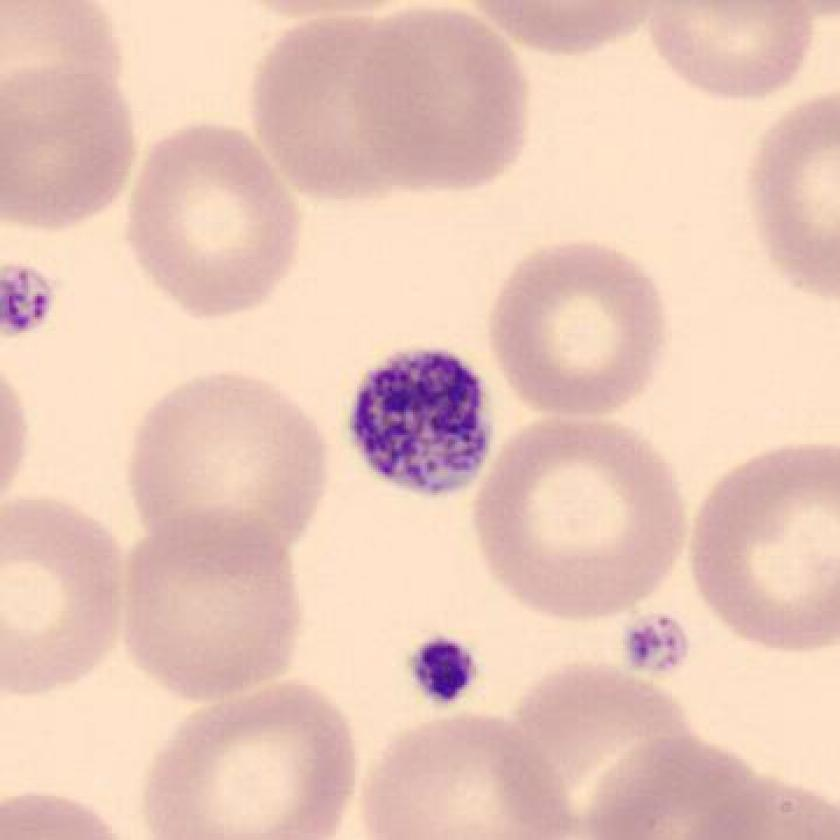platelets: (347, 332, 501, 505), (403, 624, 487, 716), (619, 600, 694, 693), (1, 258, 62, 343)
